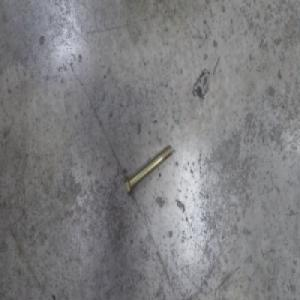Bolt: (123, 141, 173, 198)
